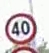limite 40: (3, 12, 37, 43)
